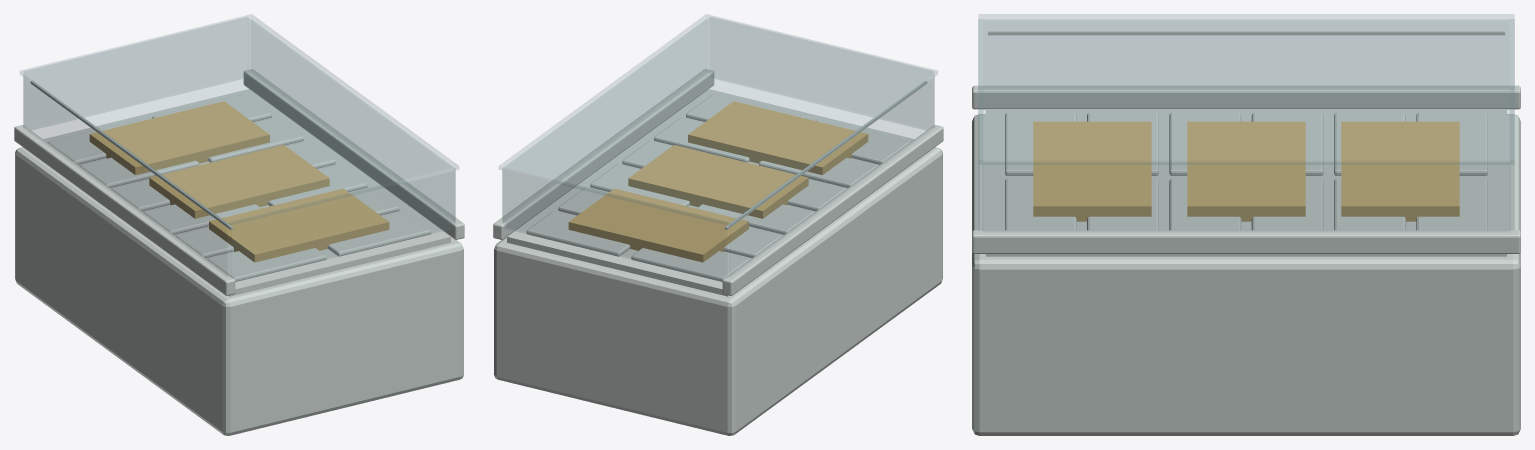
Rendered from deli-l0.glb.
3 renders of one model, left to right at view 1: azimuth 30°, elevation 25°; view 2: azimuth 150°, elevation 25°; view 3: azimuth 270°, elevation 25°, orthographic. The views are drawn at different scales.
Parts seen in each view (by area): view 1: deli-l0_fixture_Refrigerator enamel, deli-l0_fixture_Smoked glass approximation, deli-l0_fixture_cheese; view 2: deli-l0_fixture_Refrigerator enamel, deli-l0_fixture_Smoked glass approximation, deli-l0_fixture_cheese; view 3: deli-l0_fixture_Refrigerator enamel, deli-l0_fixture_Smoked glass approximation, deli-l0_fixture_cheese.
Part boxes in pixels (x1=…): deli-l0_fixture_Refrigerator enamel: x1=14, y1=69, x2=464, y2=435; deli-l0_fixture_Smoked glass approximation: x1=20, y1=14, x2=458, y2=281; deli-l0_fixture_cheese: x1=89, y1=101, x2=389, y2=262; deli-l0_fixture_Refrigerator enamel: x1=493, y1=69, x2=943, y2=435; deli-l0_fixture_Smoked glass approximation: x1=499, y1=14, x2=937, y2=281; deli-l0_fixture_cheese: x1=568, y1=101, x2=868, y2=262; deli-l0_fixture_Refrigerator enamel: x1=972, y1=31, x2=1520, y2=435; deli-l0_fixture_Smoked glass approximation: x1=978, y1=14, x2=1514, y2=230; deli-l0_fixture_cheese: x1=1033, y1=121, x2=1459, y2=221.
Bounding box in the file's own units: 1.7 × 1.44 × 2.6.
